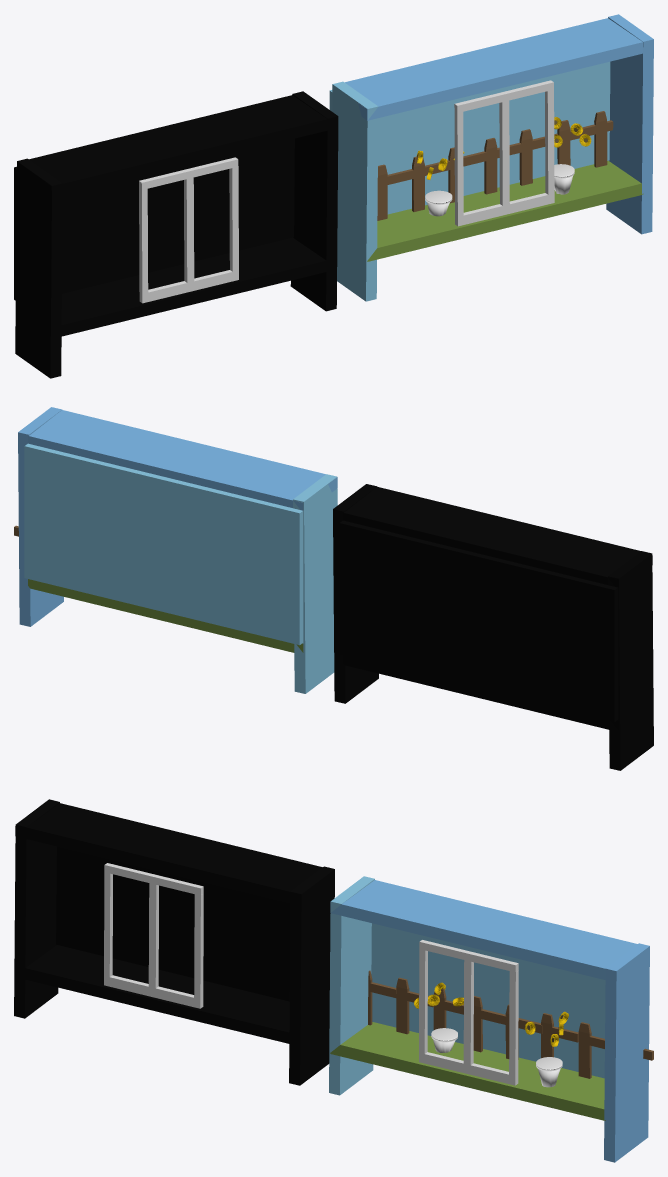
Rendered from Fenster.fbx.
3 views of the same model, one above another, from view 1: azimuth 30°, elevation 25°; view 2: azimuth 150°, elevation 25°; view 3: azimuth 330°, elevation 25° (orthographic).
Parts seen in each view (by area): view 1: Cube.001, Cube.012, Cube.003, Cube.010, Cube.002, Cube.005, Cube.011, Cube.008, Cube.004, Cube.009, Cube.013, Cube (+7 smaller); view 2: Cube.001, Cube.012, Cube.003, Cube.010, Cube.005, Cube.008, Cube.004, Cube.009, Cube.011, Cube.002; view 3: Cube.001, Cube.012, Cube.010, Cube.003, Cube.002, Cube.009, Cube.011, Cube.004, Cube.005, Cube.008, Cube.013, Cube (+6 smaller).
Part boxes in pixels (x1,y1,x2,y2): Cube.001: (14,138,294,300); Cube.012: (329,61,610,214); Cube.003: (29,95,327,197); Cube.010: (345,18,642,120); Cube.002: (52,237,327,338); Cube.005: (15,158,62,378); Cube.011: (367,160,643,261); Cube.008: (332,81,378,301); Cube.004: (290,91,338,311); Cube.009: (606,14,653,234); Cube.013: (454,80,554,226); Cube: (139,157,238,303); Cube.001: (339,520,618,721); Cube.012: (24,443,303,645); Cube.003: (343,486,652,587); Cube.010: (28,410,337,510); Cube.005: (608,551,653,770); Cube.008: (293,474,337,693); Cube.004: (333,484,378,703); Cube.009: (18,407,63,626); Cube.011: (28,579,303,652); Cube.002: (343,656,618,729); Cube.001: (56,846,290,1001); Cube.012: (371,923,605,1078); Cube.010: (330,880,637,979); Cube.003: (15,803,322,903); Cube.002: (15,945,290,1043); Cube.009: (604,943,649,1162); Cube.011: (330,1022,605,1120); Cube.004: (289,866,334,1085); Cube.005: (14,799,59,1018); Cube.008: (329,876,374,1095); Cube.013: (419,940,518,1085); Cube: (104,863,203,1008).
Bounding box in the file's own units: 3263 × 980 × 359.
